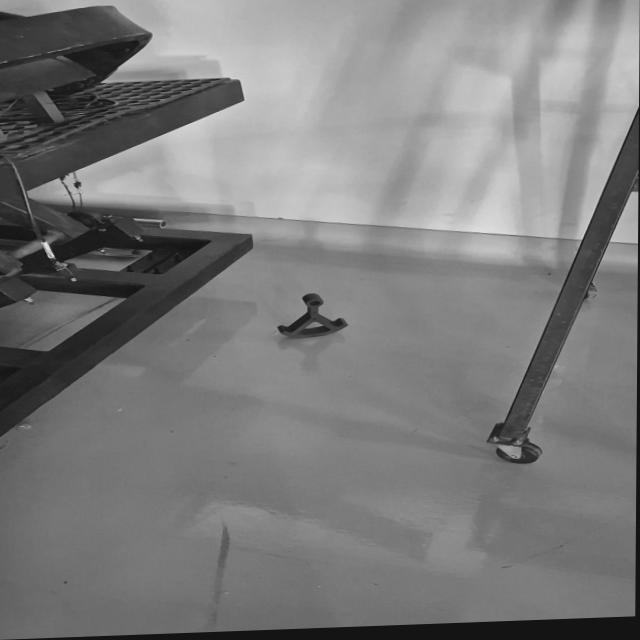haptic: (276, 291, 350, 340)
